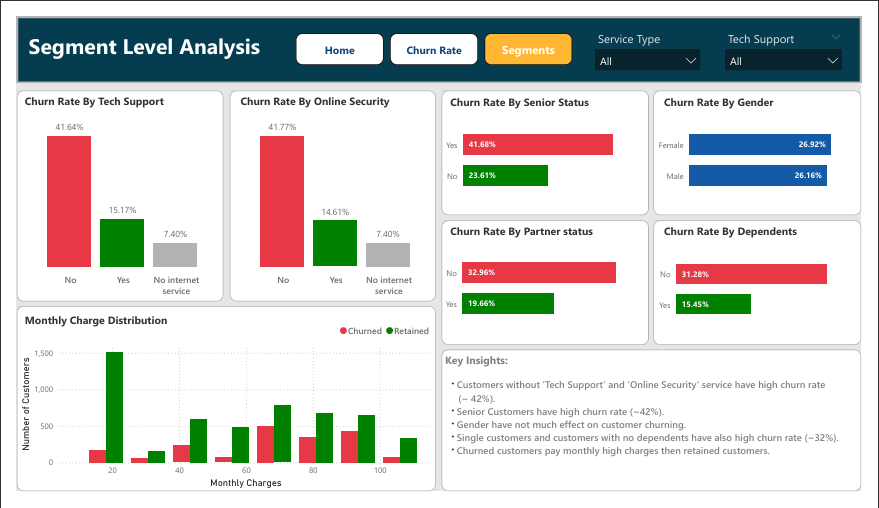

The page's visual inventory and layout, read from the dashboard file:
{"tool":"powerbi","page":{"name":"Segments","canvas":[1280,720],"ordinal":2},"visuals":[{"type":"shape","box":[0,0,1280,720],"z":0},{"type":"shape","box":[0,439.3,634.8,280.7],"z":1000},{"type":"shape","box":[643.6,308.6,314.4,189.6],"z":2000},{"type":"shape","box":[965.4,308.6,314.4,189.6],"z":3000},{"type":"shape","box":[0,111.7,313,320],"z":4000},{"type":"shape","box":[323.3,111.7,311.5,320.3],"z":5000},{"type":"clusteredColumnChart","fields":{"Category":["churn_data.MonthlyChargesBins"],"Series":["churn_data.Churn"],"Y":["CountNonNull(churn_data.customerID)"]},"box":[0,455.5,634.8,264.5],"z":6000},{"type":"shape","box":[643.6,111.7,314.4,189.6],"z":7000},{"type":"shape","box":[965.4,111.7,314.4,189.6],"z":8000},{"type":"barChart","fields":{"Y":["churn_data.Churn Rate"],"Category":["churn_data.Dependents"]},"box":[968.3,326.2,311.5,169],"z":9000},{"type":"barChart","fields":{"Y":["churn_data.Churn Rate"],"Category":["churn_data.Partner"]},"box":[643.6,321.8,314.4,173.4],"z":10000},{"type":"textbox","box":[975.7,308.6,245.4,39.7],"z":11000},{"type":"textbox","box":[652.4,308.6,242.4,39.7],"z":12000},{"type":"columnChart","fields":{"Category":["churn_data.OnlineSecurity"],"Y":["churn_data.Churn Rate"]},"box":[323.3,141.1,311.5,290.9],"z":13000},{"type":"columnChart","fields":{"Category":["churn_data.TechSupport"],"Y":["churn_data.Churn Rate"]},"box":[0,141.1,313,290.9],"z":14000},{"type":"barChart","fields":{"Category":["churn_data.gender"],"Y":["churn_data.Churn Rate"]},"box":[965.4,127.8,314.4,173.4],"z":15000},{"type":"barChart","fields":{"Y":["churn_data.Churn Rate"],"Category":["churn_data.SeniorCitizen"]},"box":[645.1,127.8,314.4,173.4],"z":16000},{"type":"textbox","box":[975.7,113.1,217.5,41.1],"z":17000},{"type":"textbox","box":[652.4,113.1,264.5,38.2],"z":18000},{"type":"textbox","box":[7.3,111.7,245.4,39.7],"z":19000},{"type":"textbox","box":[333.6,111.7,245.4,39.7],"z":20000},{"type":"textbox","box":[7.3,445.2,245.4,39.7],"z":21000},{"type":"shape","box":[643.6,505.5,636.2,214.5],"z":22000},{"type":"textbox","box":[643.6,505.5,636.2,214.5],"z":23000},{"type":"shape","box":[0,0,1279.8,99.9],"z":24000},{"type":"textbox","box":[8.8,17.6,370.3,55.8],"z":25000},{"type":"pageNavigator","box":[423.2,25,421.7,48.5],"z":26000},{"type":"slicer","fields":{"Values":["churn_data.InternetService"]},"box":[868.4,14.7,177.8,77.9],"z":27000},{"type":"slicer","fields":{"Values":["churn_data.TechSupport"]},"box":[1065.3,14.7,195.4,77.9],"z":28000}]}

Visuals, with their boxes in screenshot pixels (x1, y1, x2, y2), scaled from the page's 1280x720 canvas onto the 879x508 screenshot:
shape: 0:0:878:507
shape: 0:310:436:507
shape: 442:218:658:352
shape: 663:218:878:352
shape: 0:79:215:305
shape: 222:79:436:305
clusteredColumnChart - churn_data.MonthlyChargesBins x churn_data.Churn: 0:321:436:507
shape: 442:79:658:213
shape: 663:79:878:213
barChart - churn_data.Churn Rate x churn_data.Dependents: 665:230:878:349
barChart - churn_data.Churn Rate x churn_data.Partner: 442:227:658:349
textbox: 670:218:839:246
textbox: 448:218:614:246
columnChart - churn_data.OnlineSecurity x churn_data.Churn Rate: 222:100:436:305
columnChart - churn_data.TechSupport x churn_data.Churn Rate: 0:100:215:305
barChart - churn_data.gender x churn_data.Churn Rate: 663:90:878:213
barChart - churn_data.Churn Rate x churn_data.SeniorCitizen: 443:90:659:213
textbox: 670:80:819:109
textbox: 448:80:630:107
textbox: 5:79:174:107
textbox: 229:79:398:107
textbox: 5:314:174:342
shape: 442:357:878:507
textbox: 442:357:878:507
shape: 0:0:878:70
textbox: 6:12:260:52
pageNavigator: 291:18:580:52
slicer - churn_data.InternetService: 596:10:718:65
slicer - churn_data.TechSupport: 732:10:866:65
